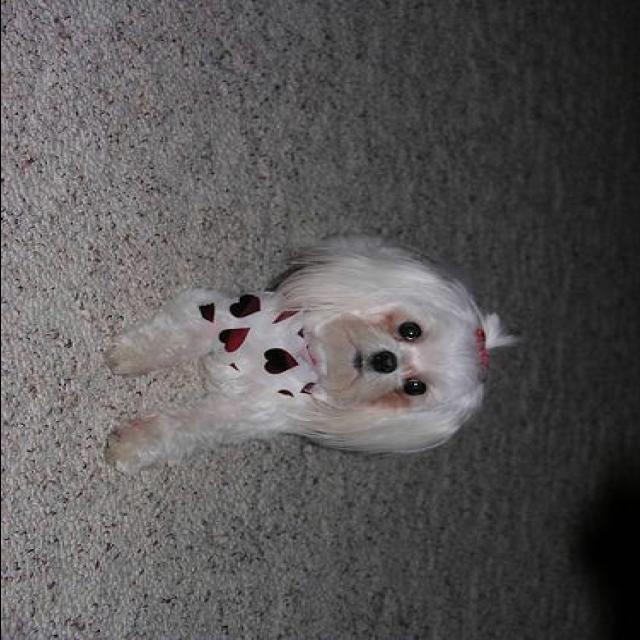maltese_dog: (94, 234, 524, 488)
